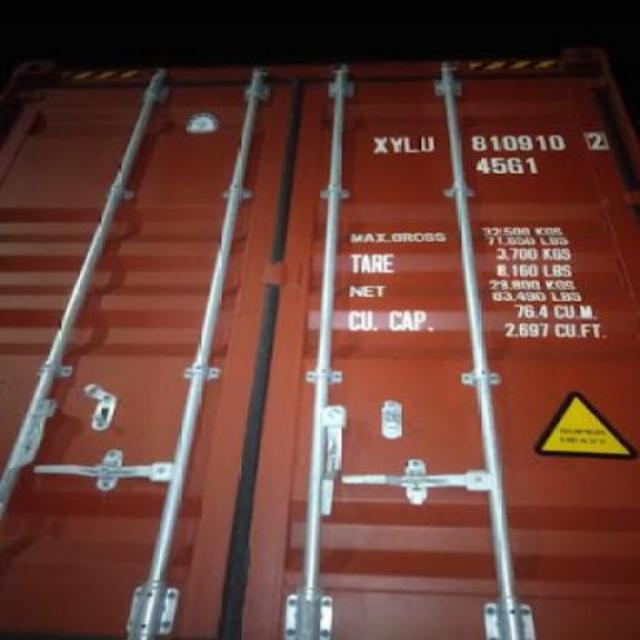0: (548, 133, 566, 151), (504, 135, 516, 153)
1: (490, 133, 500, 153), (536, 134, 548, 150)
2: (586, 132, 606, 150)
8: (472, 135, 488, 151)
9: (518, 133, 532, 151)
L: (404, 134, 420, 156)
U: (421, 133, 434, 153)
X: (372, 136, 388, 154)
Y: (391, 135, 404, 155)
